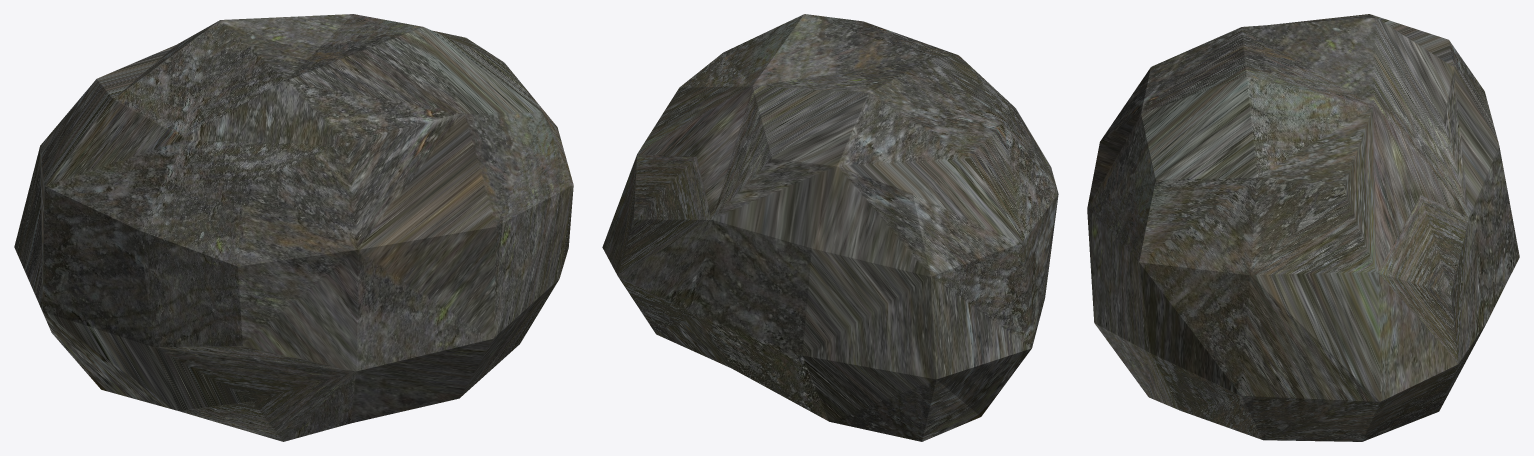
File: rock_03.obj
The picture shows the model from 3 angles, left to right: view 1: azimuth 30°, elevation 25°; view 2: azimuth 150°, elevation 25°; view 3: azimuth 270°, elevation 25°; orthographic projection. The views are drawn at different scales.
Visible parts, largest first — view 1: rock; view 2: rock; view 3: rock.
Boxes of the visible parts, x1=… form: rock: x1=14, y1=14, x2=573, y2=441; rock: x1=602, y1=14, x2=1058, y2=441; rock: x1=1087, y1=14, x2=1519, y2=441.
Size of the model in its own units: 1 by 0.7717 by 0.7948.
1 material, 1 textured.
